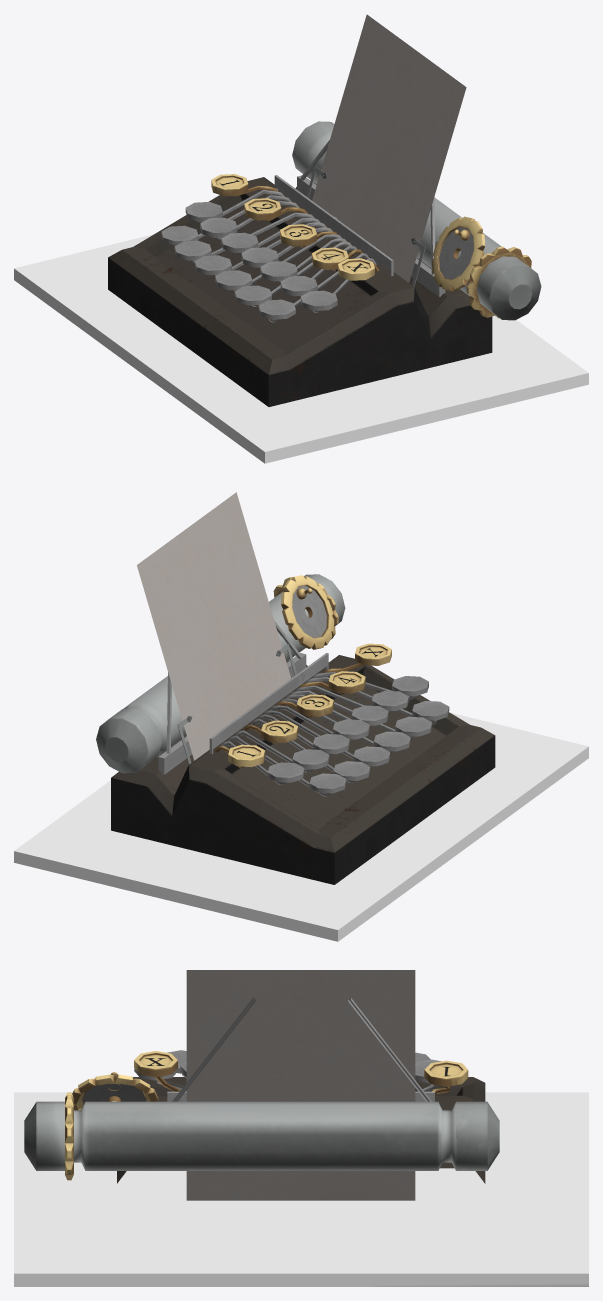
Rendered from typewriterFixed.fbx.
The picture shows the model from 3 angles, top to bottom: view 1: azimuth 30°, elevation 25°; view 2: azimuth 150°, elevation 25°; view 3: azimuth 270°, elevation 25°; orthographic projection. The views are drawn at different scales.
Parts seen in each view (by area): view 1: Type_Base, Type_Pedestal, Type_Paper, FILLER_KEYS, Type_Roller, interactable_cogwheel, Type_Balkje, Type_Additions, reactive_cogwheel, key_2, key_1, key_X (+2 smaller); view 2: Type_Base, Type_Pedestal, Type_Paper, FILLER_KEYS, Type_Roller, interactable_cogwheel, Type_Balkje, Type_Additions, key_3, key_4, key_1, key_2 (+1 smaller); view 3: Type_Pedestal, Type_Paper, Type_Roller, interactable_cogwheel, Type_Base, Type_Additions, FILLER_KEYS, key_1, key_X, reactive_cogwheel.
Boxes of the visible parts, <box> form: Type_Base: <box>108,177,492,406</box>; Type_Pedestal: <box>14,234,588,463</box>; Type_Paper: <box>312,14,466,282</box>; FILLER_KEYS: <box>161,189,376,322</box>; Type_Roller: <box>292,121,541,320</box>; interactable_cogwheel: <box>432,216,485,291</box>; Type_Balkje: <box>274,175,393,276</box>; Type_Additions: <box>297,140,445,296</box>; reactive_cogwheel: <box>466,246,531,318</box>; key_2: <box>244,198,281,220</box>; key_1: <box>211,174,248,196</box>; key_X: <box>338,258,374,280</box>; Type_Base: <box>111,655,495,884</box>; Type_Pedestal: <box>14,712,588,941</box>; Type_Paper: <box>137,492,291,760</box>; FILLER_KEYS: <box>221,672,449,796</box>; Type_Roller: <box>96,574,345,773</box>; interactable_cogwheel: <box>281,575,334,649</box>; Type_Balkje: <box>209,653,328,753</box>; Type_Additions: <box>158,620,306,774</box>; key_3: <box>296,694,333,716</box>; key_4: <box>328,671,365,693</box>; key_1: <box>228,744,265,767</box>; key_2: <box>261,720,298,742</box>; Type_Pedestal: <box>14,1092,588,1286</box>; Type_Paper: <box>186,970,415,1200</box>; Type_Roller: <box>24,1101,499,1170</box>; interactable_cogwheel: <box>72,1074,158,1110</box>; Type_Base: <box>117,1077,485,1183</box>; Type_Additions: <box>172,998,431,1101</box>; FILLER_KEYS: <box>134,1050,440,1091</box>; key_1: <box>424,1060,468,1086</box>; key_X: <box>134,1051,177,1077</box>; reactive_cogwheel: <box>65,1092,73,1180</box>.
Bounding box in the file's own units: 26.14 × 19.55 × 35.05.
1 material, 1 textured.
